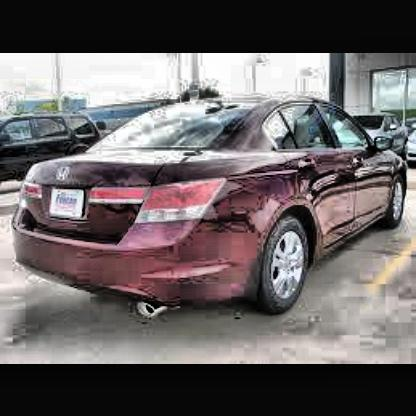Honda Accord Sedan 2012: (14, 99, 415, 317)
